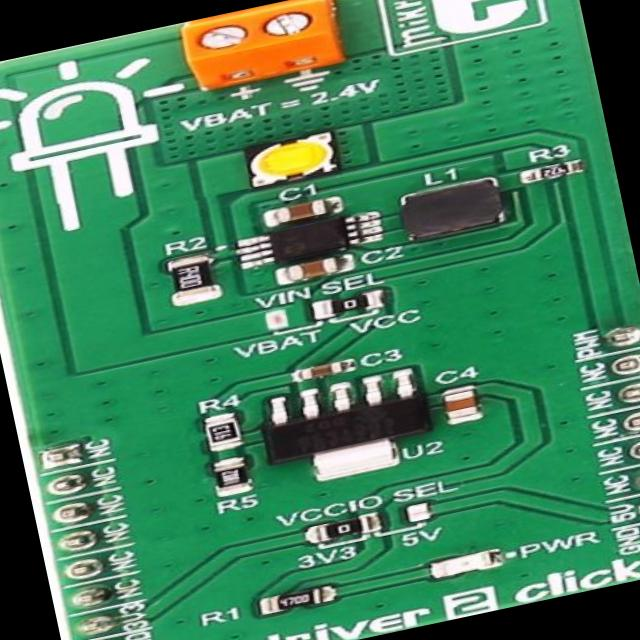IC: (261, 365, 441, 484), (252, 207, 377, 269)
LED: (246, 132, 340, 186), (432, 550, 500, 581)
capacitor: (283, 255, 347, 282), (440, 387, 480, 422), (298, 360, 355, 383)
connector: (173, 0, 352, 103)
resistor: (156, 254, 222, 304), (314, 512, 377, 546), (268, 584, 328, 614), (201, 415, 239, 453), (212, 460, 250, 496), (325, 293, 379, 317), (526, 159, 576, 182)
